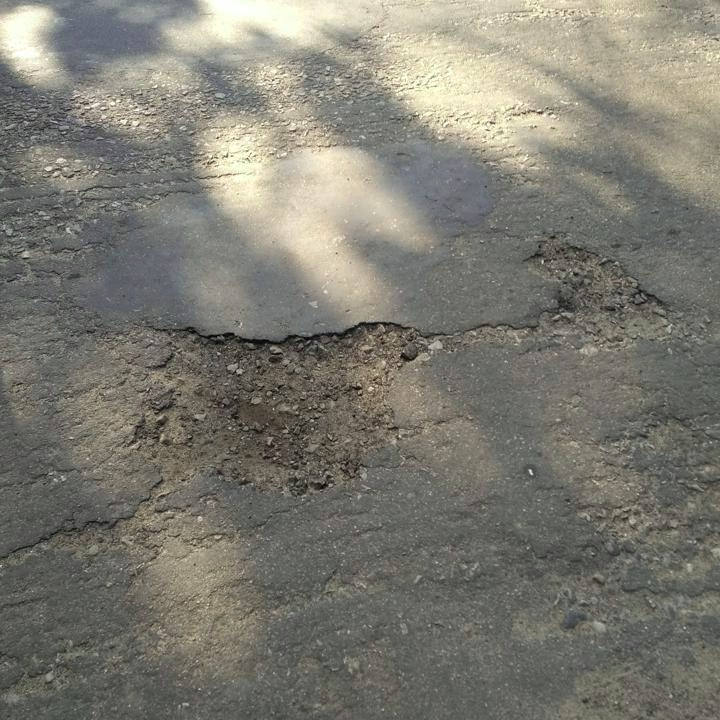pothole: (123, 312, 415, 506), (520, 237, 673, 356)
